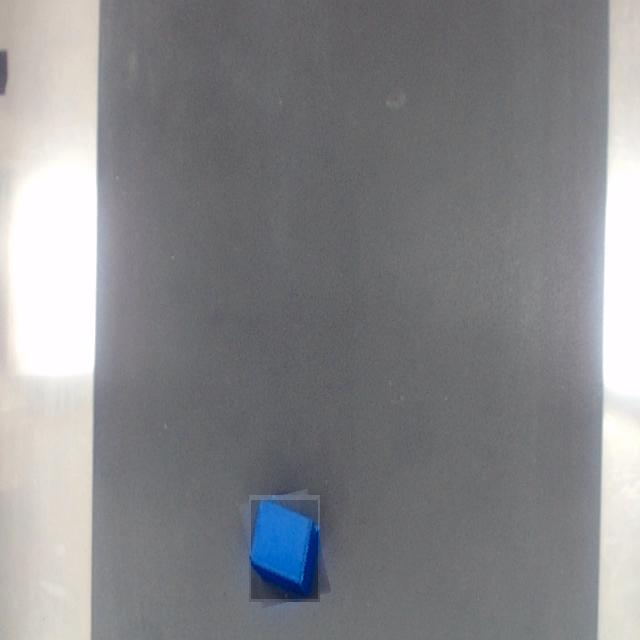Azul: (251, 500, 318, 599)
